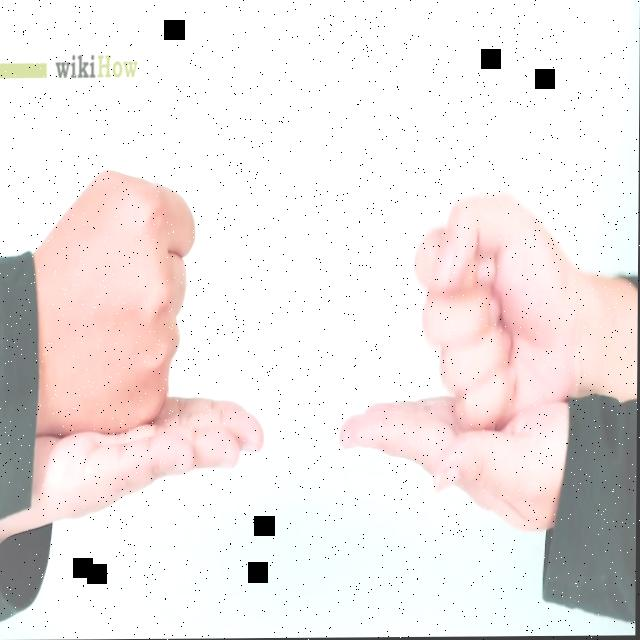Rock: (31, 168, 197, 437), (413, 188, 575, 433)
